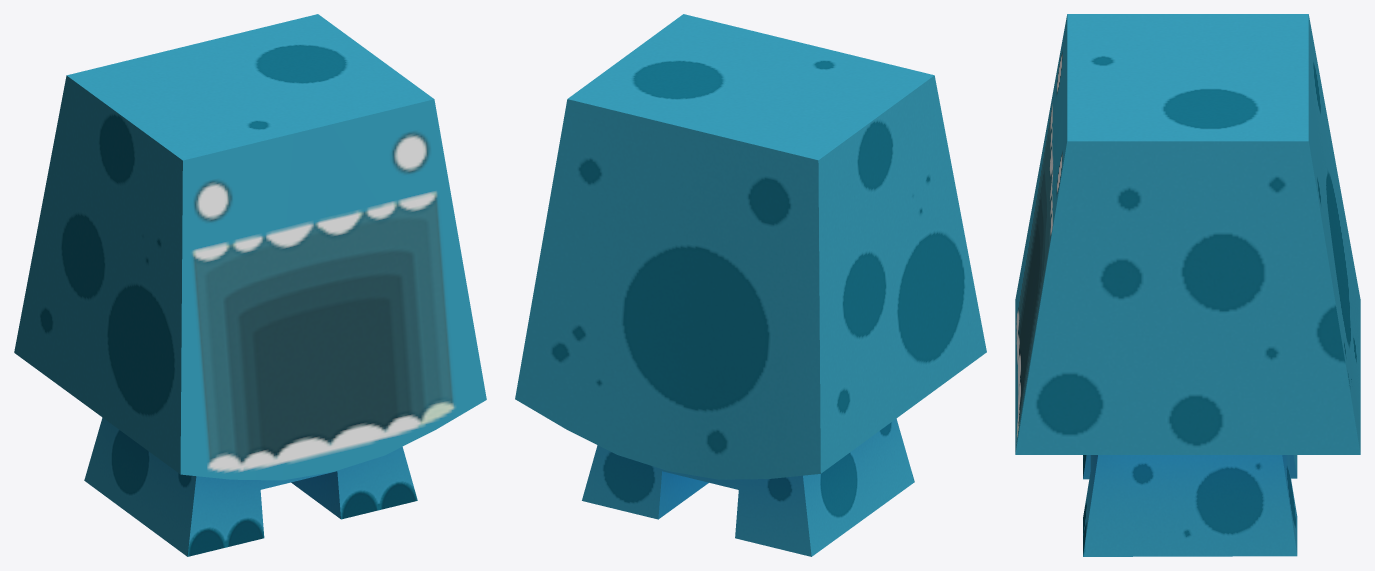
The model's file is rushton_fbx.fbx.
The picture shows the model from 3 angles, left to right: view 1: azimuth 30°, elevation 25°; view 2: azimuth 150°, elevation 25°; view 3: azimuth 270°, elevation 25°; orthographic projection. The views are drawn at different scales.
Visible parts, largest first — view 1: rushton; view 2: rushton; view 3: rushton.
Boxes of the visible parts, box(x1,y1,x2,y2) form: rushton: box(14, 14, 486, 556); rushton: box(515, 14, 986, 556); rushton: box(1015, 14, 1360, 556).
Bounding box in the file's own units: 9.74 × 12.3 × 9.16.
Materials: 2 (2 with a texture image).
